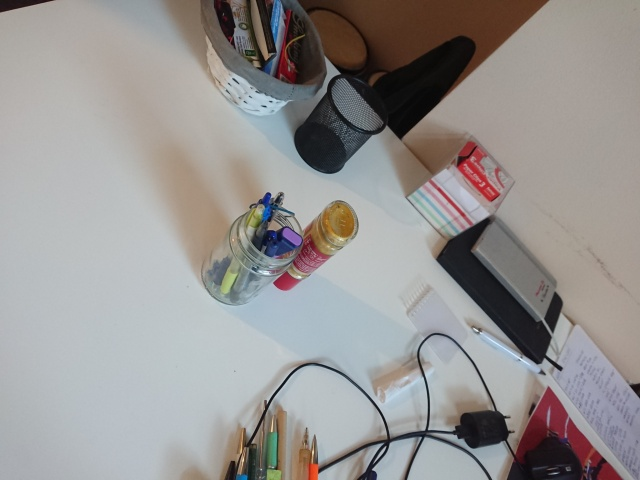Kotanyi Curry Spices Mix 70g: (269, 197, 361, 294)
